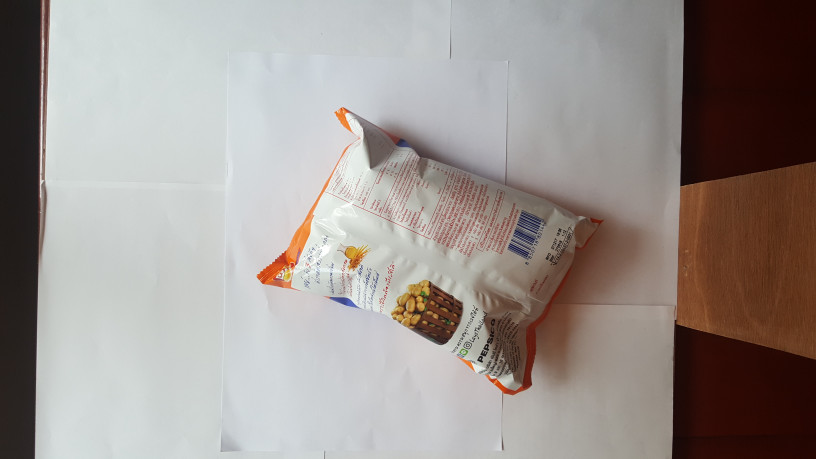lays-bbq: (247, 106, 603, 401)
